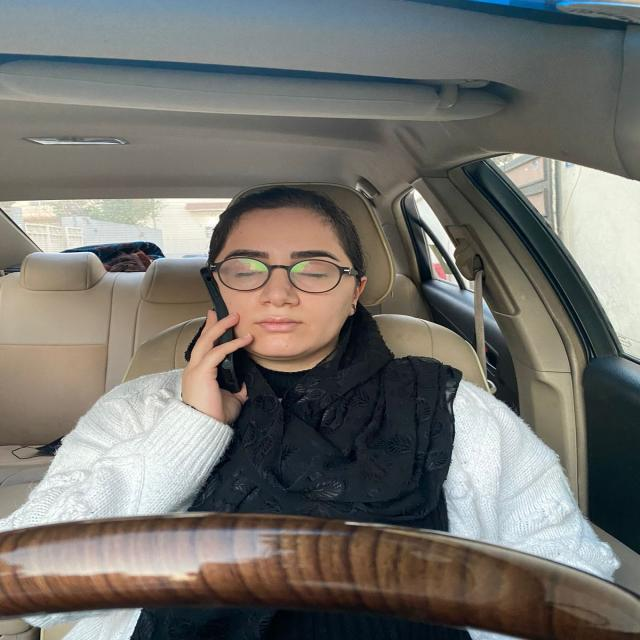phone: (196, 263, 242, 390)
